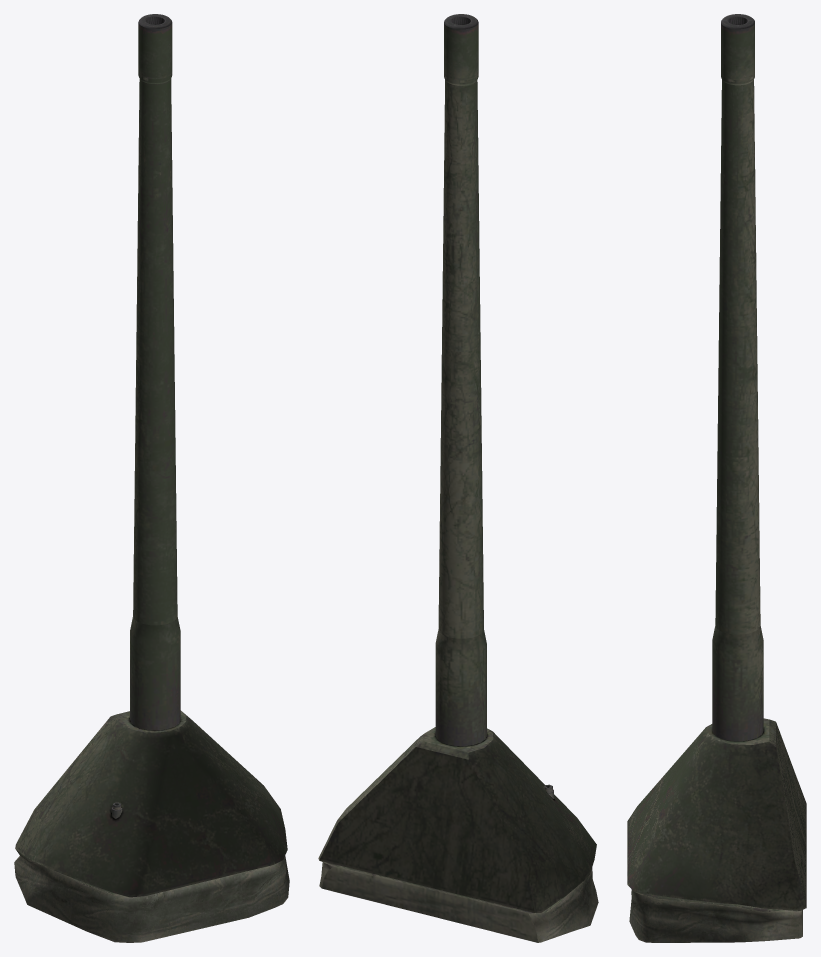
File: Gun_05.glb
3 renders of one model, left to right at view 1: azimuth 30°, elevation 25°; view 2: azimuth 150°, elevation 25°; view 3: azimuth 270°, elevation 25°, orthographic. The views are drawn at different scales.
Visible parts, largest first — view 1: set_0_group_0; view 2: set_0_group_0; view 3: set_0_group_0.
Part boxes in pixels (x1=…): set_0_group_0: x1=14, y1=14, x2=289, y2=942; set_0_group_0: x1=318, y1=14, x2=598, y2=942; set_0_group_0: x1=627, y1=14, x2=806, y2=942.
Size of the model in its own units: 1.16 by 3.79 by 0.6977.
Materials: 1 (1 with a texture image).
